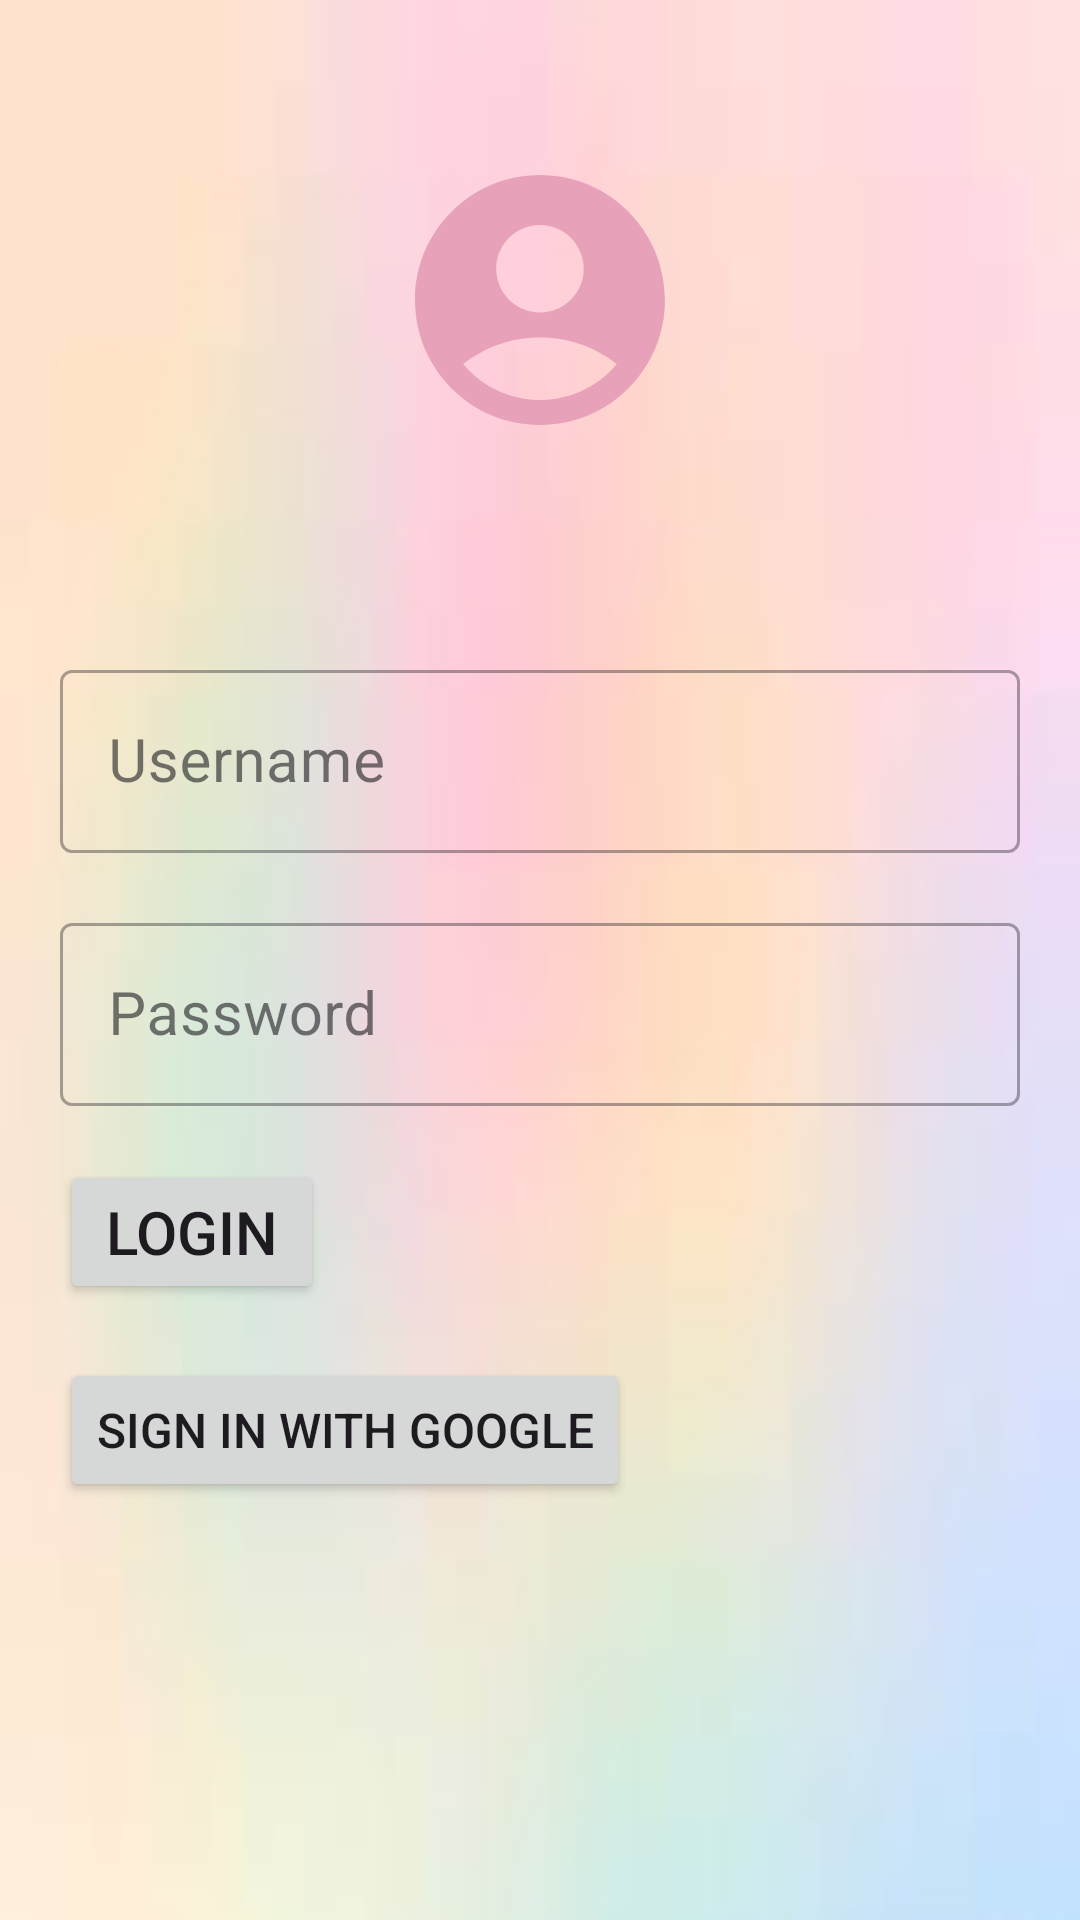

Where icons sit on this 1080×1920 app screen, as [x1,y1,x2,y2]:
account circle: [415,175,665,425]
